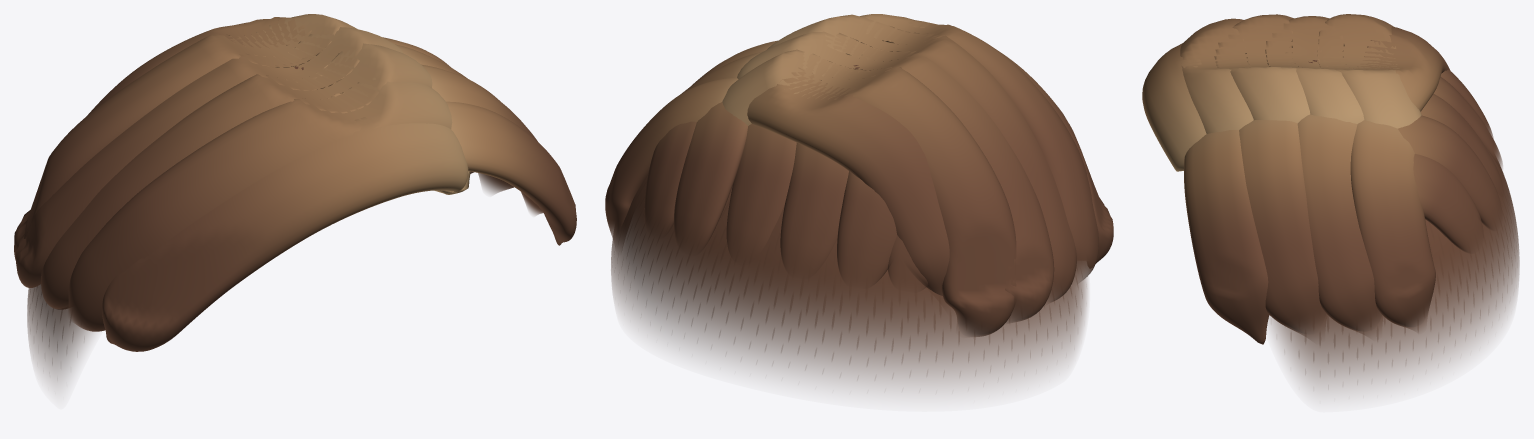
The model's file is Masculine-taper-cowboy258-hair-ombre.glb.
3 views of the same model, side by side, from view 1: azimuth 30°, elevation 25°; view 2: azimuth 150°, elevation 25°; view 3: azimuth 270°, elevation 25° (orthographic). The views are drawn at different scales.
Visible parts, largest first — view 1: 226 hair / Hair258 / sculpted side sweep 1, 226 hair / Hair258 / sculpted side sweep 0, 226 hair / Hair258 / sculpted side sweep 2, 226 hair / Hair258 / smooth side fade; view 2: 226 hair / Hair258 / sculpted side sweep 0, 226 hair / Hair258 / smooth side fade, 226 hair / Hair258 / sculpted side sweep 1, 226 hair / Hair258 / sculpted side sweep 2, 226 hair / Hair258 / directional fade marks; view 3: 226 hair / Hair258 / sculpted side sweep 1, 226 hair / Hair258 / sculpted side sweep 0, 226 hair / Hair258 / sculpted side sweep 2, 226 hair / Hair258 / smooth side fade, 226 hair / Hair258 / directional fade marks.
Boxes of the visible parts, bbox=[...] form: 226 hair / Hair258 / sculpted side sweep 1: bbox=[16, 27, 576, 351]; 226 hair / Hair258 / sculpted side sweep 0: bbox=[14, 14, 543, 331]; 226 hair / Hair258 / sculpted side sweep 2: bbox=[41, 43, 513, 308]; 226 hair / Hair258 / smooth side fade: bbox=[27, 66, 303, 387]; 226 hair / Hair258 / sculpted side sweep 0: bbox=[674, 14, 1098, 336]; 226 hair / Hair258 / smooth side fade: bbox=[611, 65, 1087, 392]; 226 hair / Hair258 / sculpted side sweep 1: bbox=[605, 20, 1113, 322]; 226 hair / Hair258 / sculpted side sweep 2: bbox=[644, 14, 1076, 302]; 226 hair / Hair258 / directional fade marks: bbox=[622, 177, 1082, 366]; 226 hair / Hair258 / sculpted side sweep 1: bbox=[1142, 16, 1503, 344]; 226 hair / Hair258 / sculpted side sweep 0: bbox=[1180, 14, 1502, 334]; 226 hair / Hair258 / sculpted side sweep 2: bbox=[1214, 14, 1502, 331]; 226 hair / Hair258 / smooth side fade: bbox=[1268, 60, 1519, 393]; 226 hair / Hair258 / directional fade marks: bbox=[1291, 148, 1514, 375].
Size of the model in its own units: 0.9754 by 0.6218 by 0.7505.
